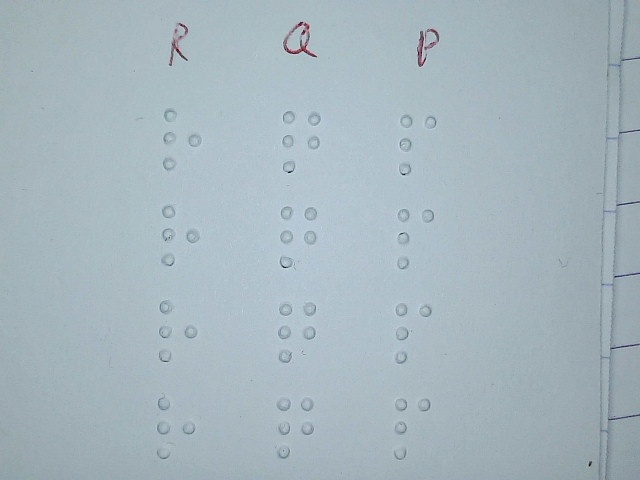P: (396, 112, 439, 177), (394, 205, 437, 270), (392, 300, 435, 365), (391, 395, 434, 460)
Q: (280, 109, 323, 174), (278, 204, 321, 269), (276, 299, 319, 364), (274, 395, 317, 460)
R: (160, 107, 203, 172), (159, 203, 202, 268), (156, 299, 199, 364), (154, 395, 197, 460)
